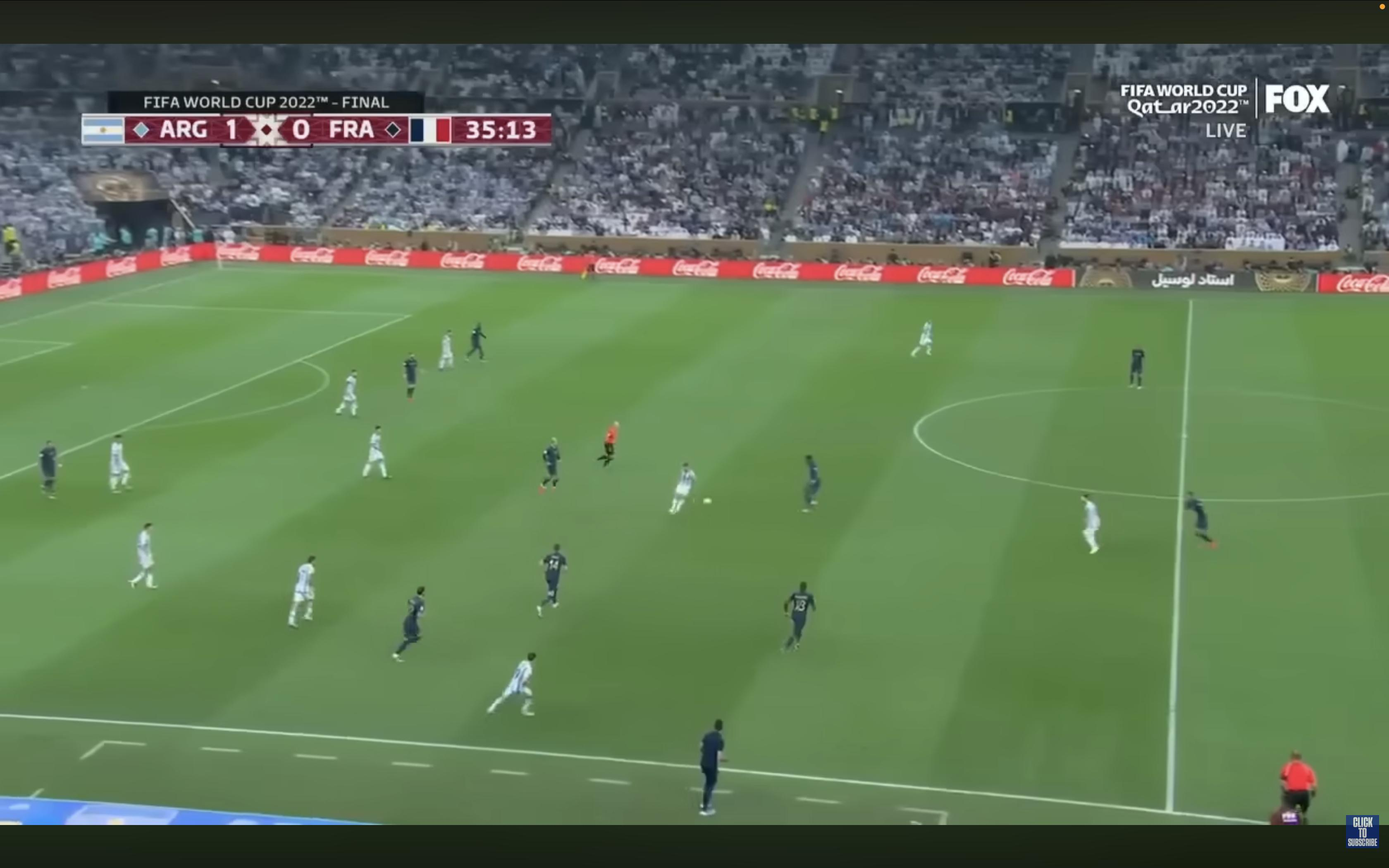ball: (702, 497, 712, 504)
player: (487, 652, 536, 716), (393, 586, 425, 661), (783, 582, 816, 651), (536, 543, 567, 616), (288, 556, 315, 627), (1184, 491, 1217, 548), (129, 523, 155, 589), (362, 425, 389, 479), (670, 463, 697, 514), (38, 441, 60, 498), (539, 438, 561, 494), (110, 434, 130, 493), (1082, 494, 1101, 554), (802, 455, 821, 513), (335, 370, 358, 417), (465, 322, 487, 361), (911, 320, 933, 358), (403, 354, 418, 401), (1129, 348, 1145, 389), (438, 330, 454, 371)
referee: (1280, 751, 1317, 823), (699, 719, 725, 816), (597, 421, 619, 467)
